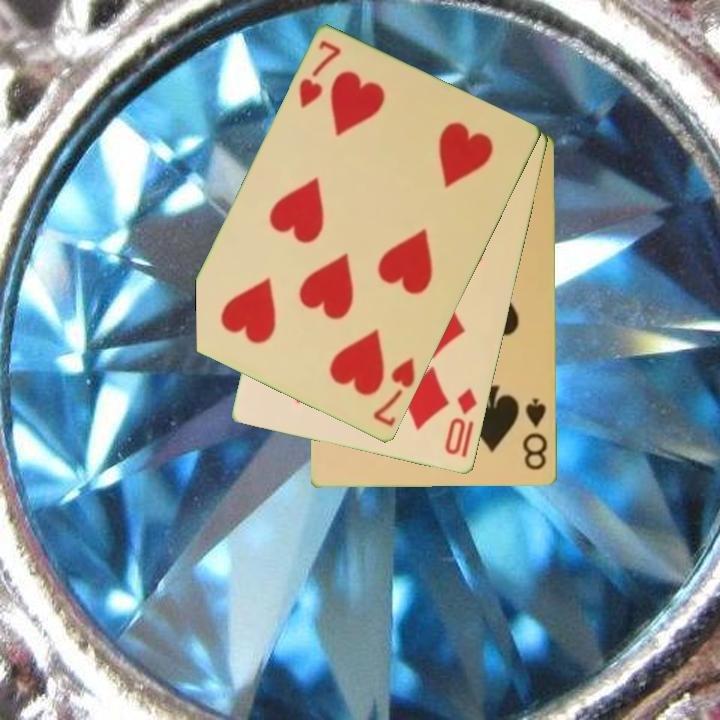10d: (441, 385, 481, 459)
7h: (369, 354, 419, 430), (295, 37, 345, 112)
8s: (520, 395, 551, 473)
